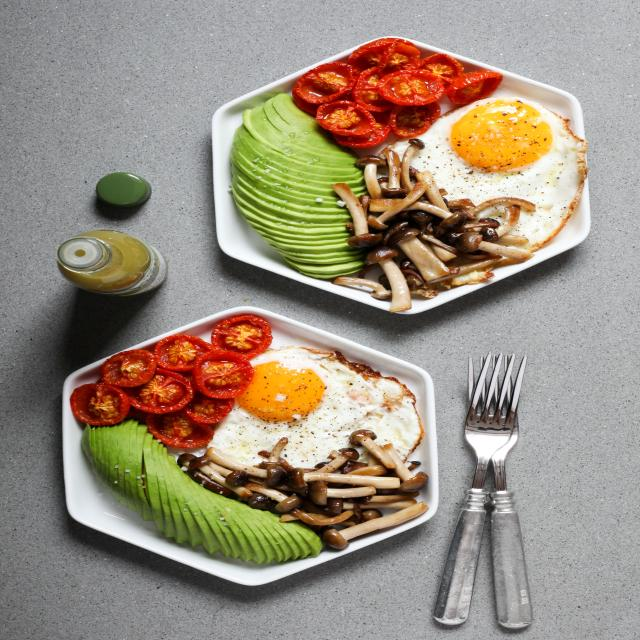Egg: (412, 98, 587, 250), (208, 346, 424, 468)
